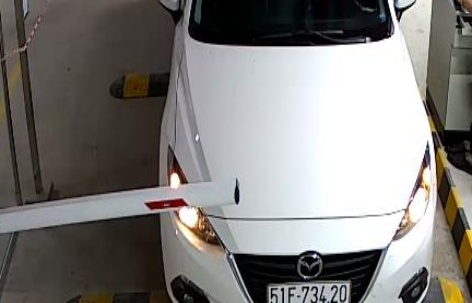plate: (262, 268, 355, 302)
